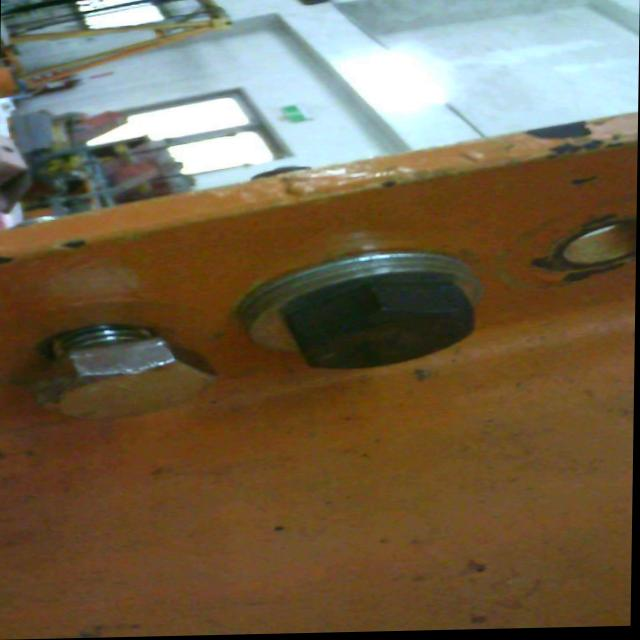Loose bolt: (31, 322, 218, 426)
Missing bolt: (557, 222, 638, 275)
Rusty bolt: (243, 253, 488, 380)
